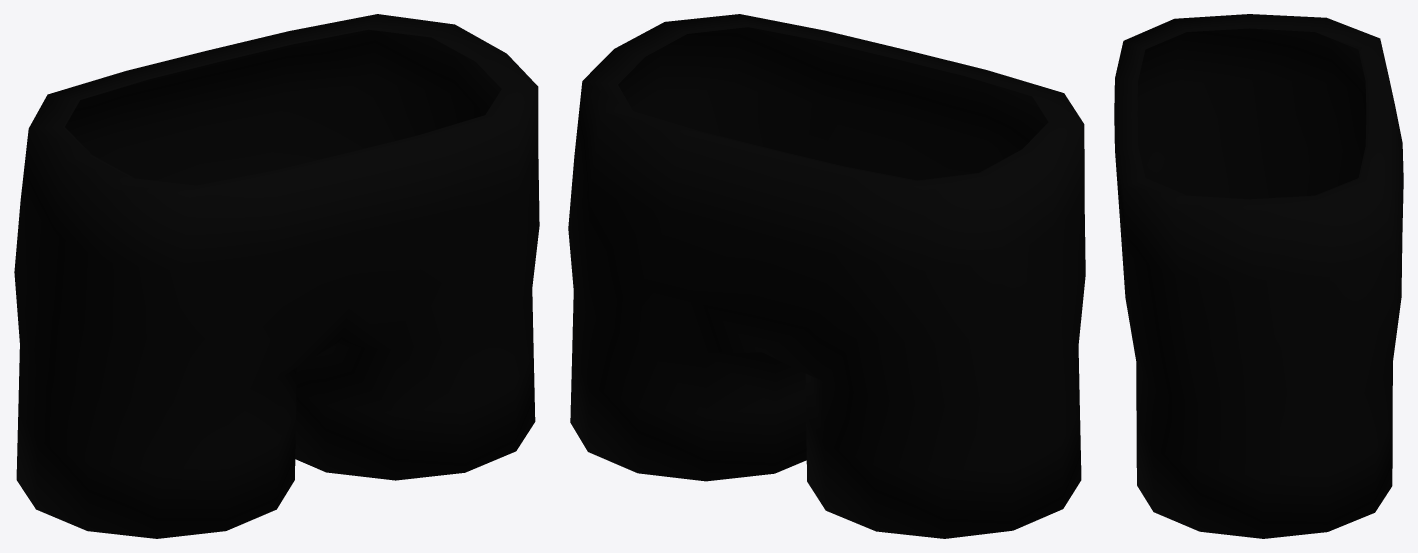
Rendered from short_jeans.gltf.
The picture shows the model from 3 angles, left to right: view 1: azimuth 30°, elevation 25°; view 2: azimuth 150°, elevation 25°; view 3: azimuth 270°, elevation 25°; orthographic projection. The views are drawn at different scales.
Parts seen in each view (by area): view 1: Short_Jeans; view 2: Short_Jeans; view 3: Short_Jeans.
Boxes of the visible parts, left/top/right/bottom form: Short_Jeans: left=14, top=14, right=539, bottom=538; Short_Jeans: left=568, top=14, right=1085, bottom=538; Short_Jeans: left=1114, top=14, right=1403, bottom=538.
Size of the model in its own units: 0.4823 by 0.3359 by 0.2752.
